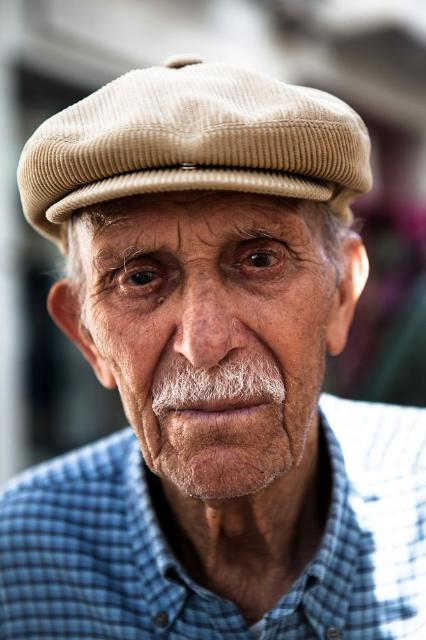crows_feet: (288, 238, 316, 274), (90, 277, 119, 311)
frown_line: (192, 214, 216, 252), (172, 218, 190, 262)
gummy_smile: (143, 320, 179, 390), (241, 318, 285, 367)
sad_smile: (138, 408, 170, 464), (276, 398, 300, 460)
